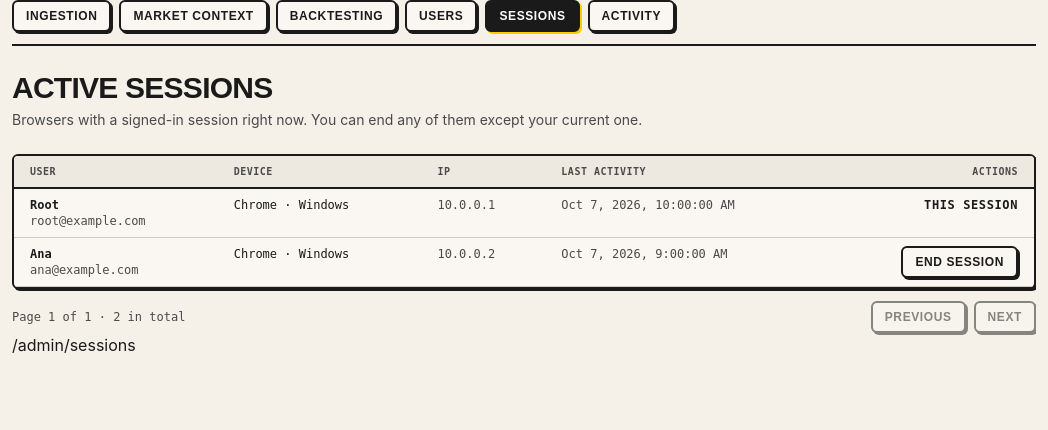
Test case: Admin users and sessions screens › protects the current session and ends another one after confirmation
The image size is (1048, 430).
Check: the text "This session" is shown, box 924,198 -> 1018,212
Check: the text "Chrome · Windows" is shown 2 times, box 218,188 -> 421,238; 218,238 -> 421,286
Click the button "End session". click: (960, 262)
box: 901,246 -> 1018,278
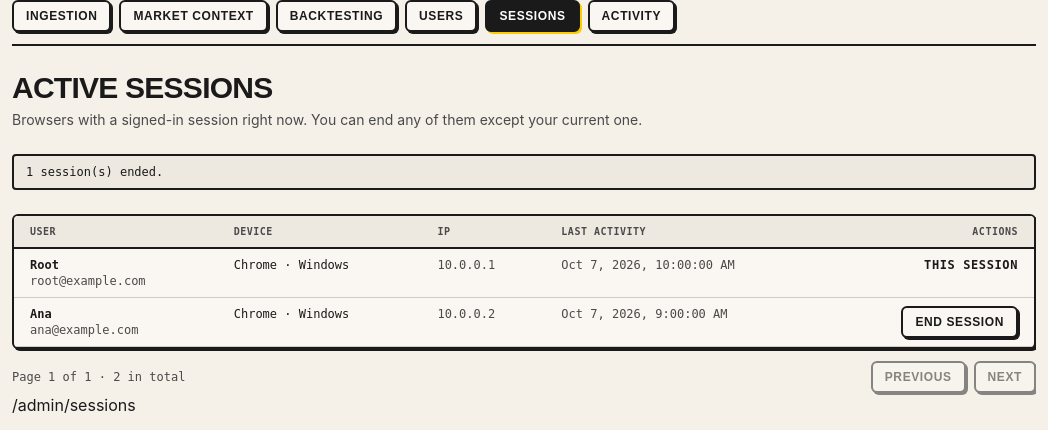
Check: the text "1 session(s) ended." is shown, box 12,154 -> 1036,190
